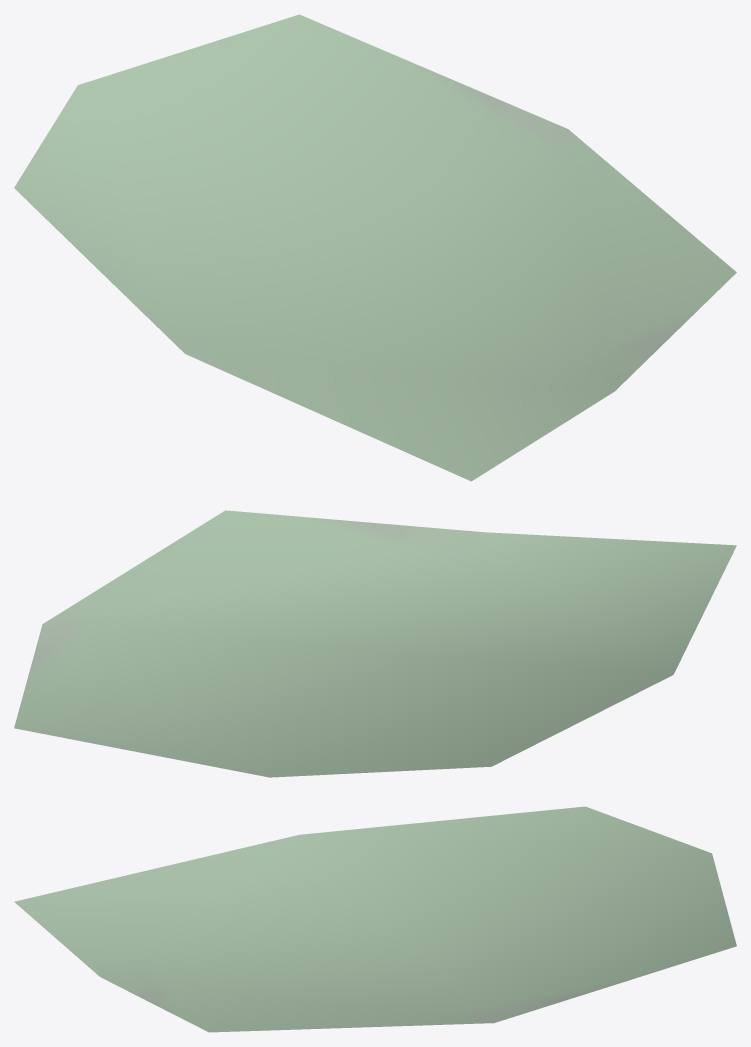
File: TROLLHOLE02_HOLECAP47.fbx
3 views of the same model, one above another, from view 1: azimuth 30°, elevation 25°; view 2: azimuth 150°, elevation 25°; view 3: azimuth 270°, elevation 25° (orthographic). The views are drawn at different scales.
Parts seen in each view (by area): view 1: TROLLHOLE02_HOLECAP47; view 2: TROLLHOLE02_HOLECAP47; view 3: TROLLHOLE02_HOLECAP47.
Boxes of the visible parts, x1,y1,x2,y2 form: TROLLHOLE02_HOLECAP47: (14,14,736,481); TROLLHOLE02_HOLECAP47: (14,510,736,777); TROLLHOLE02_HOLECAP47: (14,806,736,1032).
Size of the model in its own units: 20607 by 3035 by 31413.
Materials: 1 (1 with a texture image).
